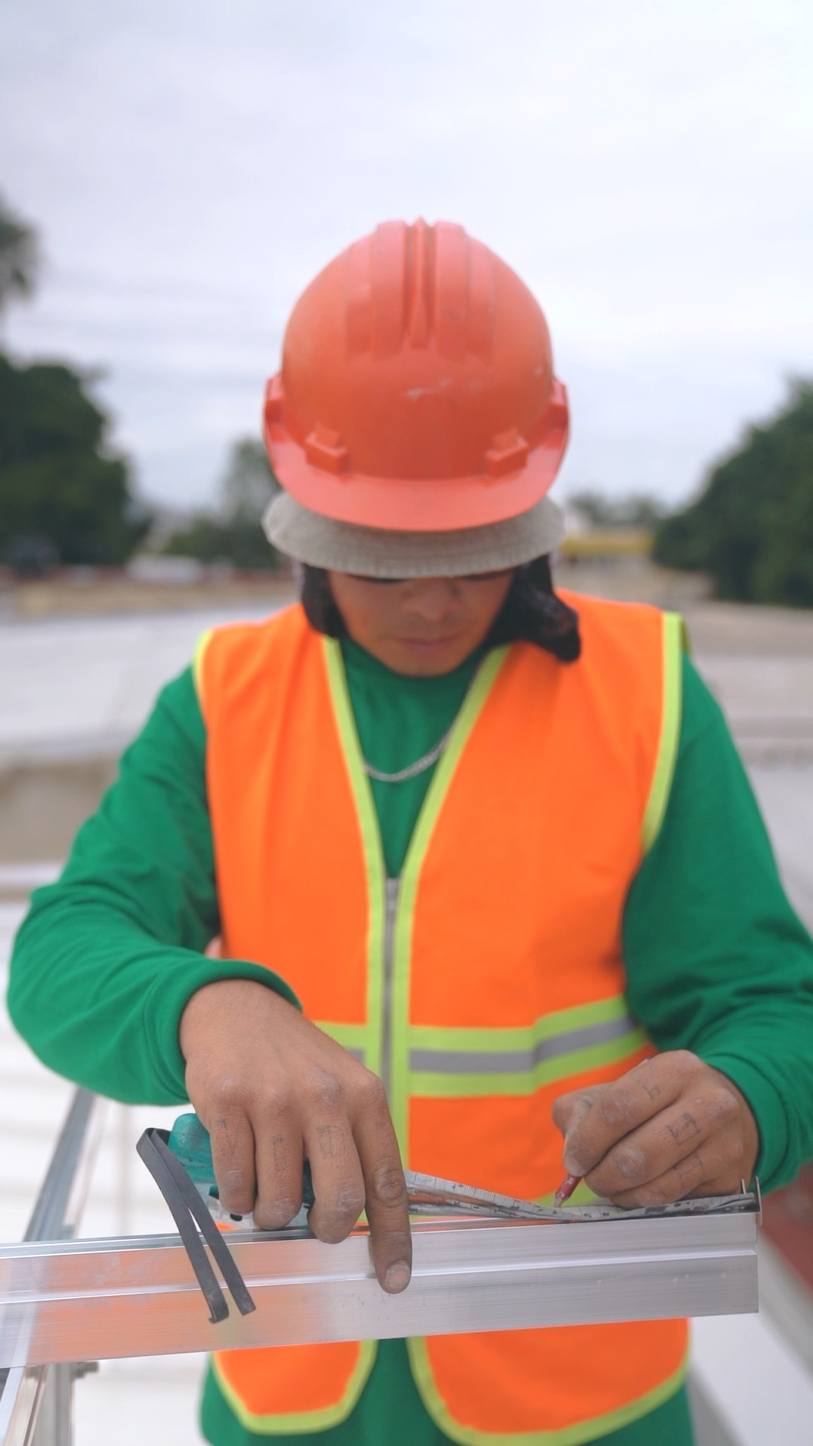No-gloves: (161, 977, 481, 1304), (539, 1047, 782, 1237)
